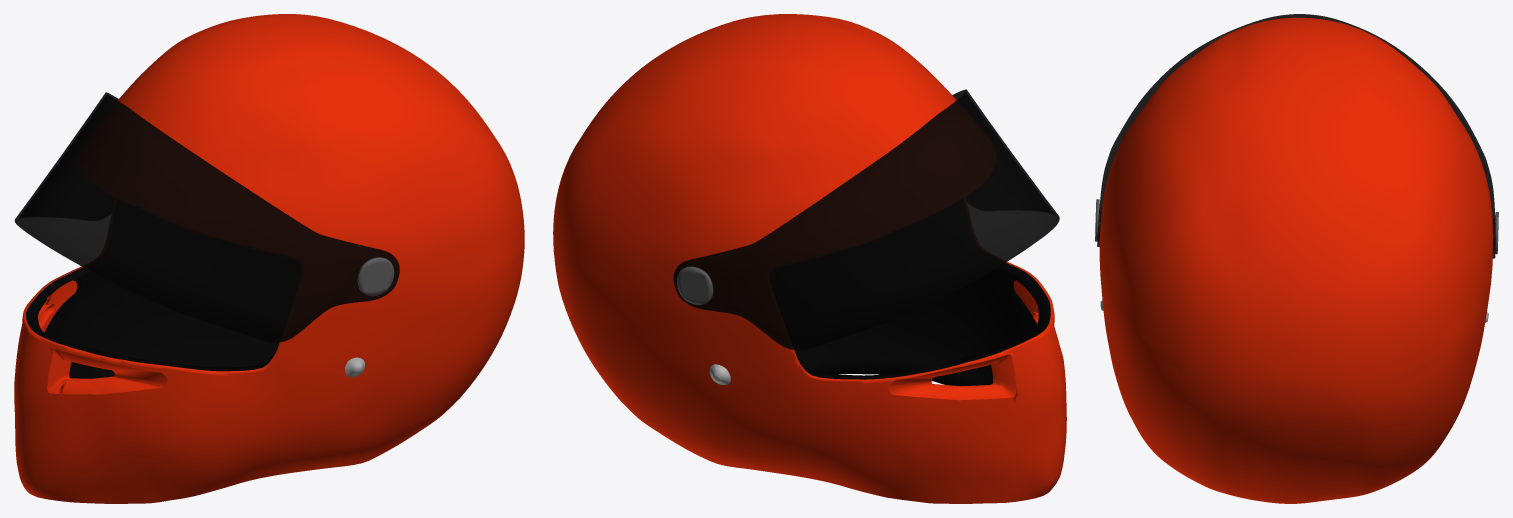
The model's file is helmet.glb.
3 renders of one model, left to right at view 1: azimuth 30°, elevation 25°; view 2: azimuth 150°, elevation 25°; view 3: azimuth 270°, elevation 25°, orthographic. The views are drawn at different scales.
Parts seen in each view (by area): view 1: Cube, Plane, Cube.007, Cube.006, Cube.003; view 2: Cube, Plane, Cube.007, Cube.005, Cube.004; view 3: Cube, Plane.
Part boxes in pixels (box(x1,y1,x2,y2)): Cube: box(14, 14, 524, 503); Plane: box(14, 92, 399, 342); Cube.007: box(26, 267, 279, 378); Cube.006: box(47, 349, 167, 394); Cube.003: box(357, 257, 394, 296); Cube: box(553, 14, 1066, 503); Plane: box(673, 89, 1059, 350); Cube.007: box(794, 262, 1050, 386); Cube.005: box(888, 354, 1015, 400); Cube.004: box(677, 266, 713, 304); Cube: box(1099, 17, 1492, 503); Plane: box(1097, 14, 1495, 258).
Size of what is drawn, in the model's own units: 7.72 by 6.19 by 5.52.
